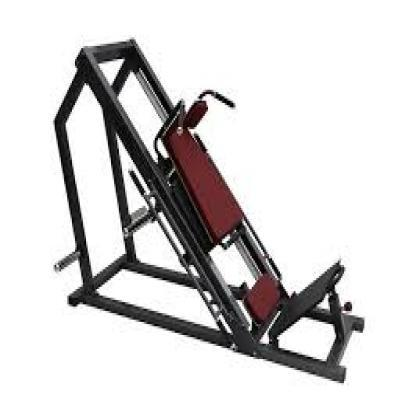leg press: (43, 26, 387, 394)
